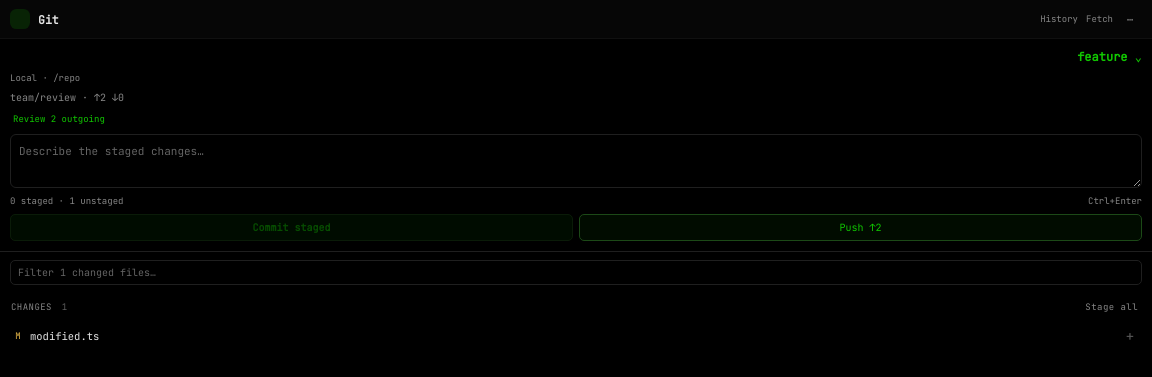
Test case: refuses to bulk-stage a file that became conflicted after it was displayed
Step 1. Click the button "Stage all" → [1112, 307], box [1082, 299, 1141, 315]
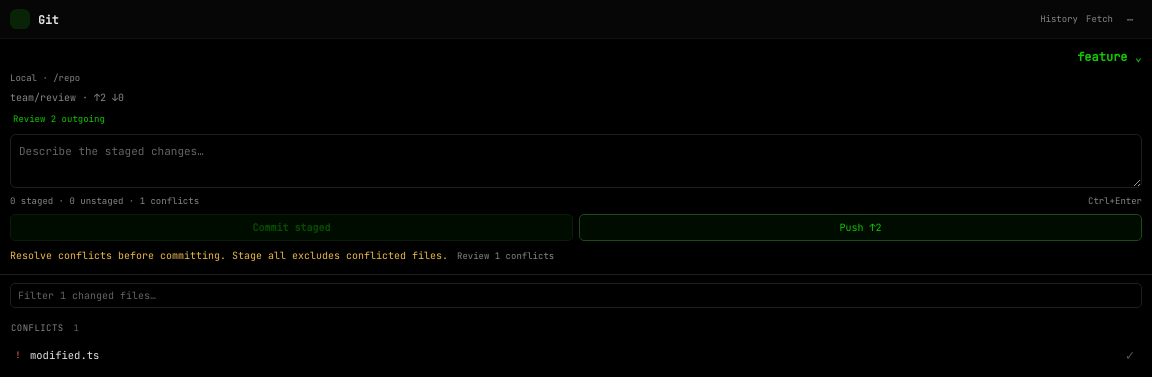
Expected: the text "Resolve conflicts before committing" is shown, [10, 249, 454, 262]
